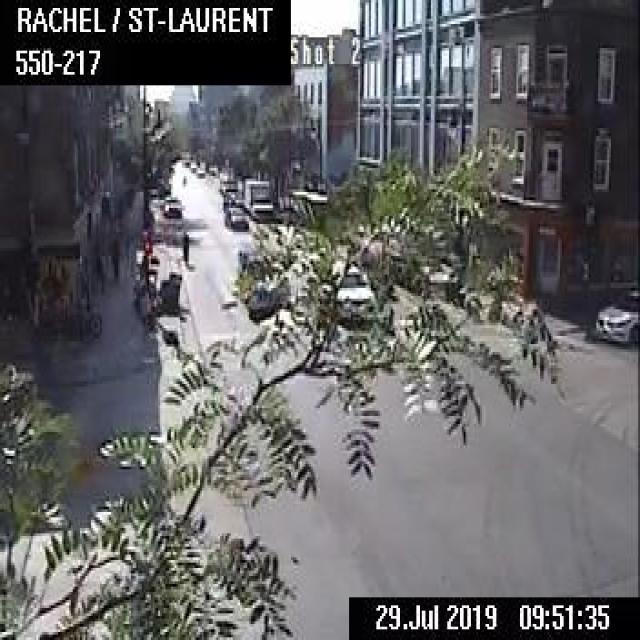cyclist: (180, 227, 189, 262)
pedestrian: (89, 238, 102, 294), (106, 222, 118, 275)
vehicle: (322, 253, 380, 326), (236, 246, 291, 320), (591, 283, 638, 344), (243, 176, 273, 219), (223, 205, 248, 227), (160, 192, 182, 216), (222, 189, 243, 208)
